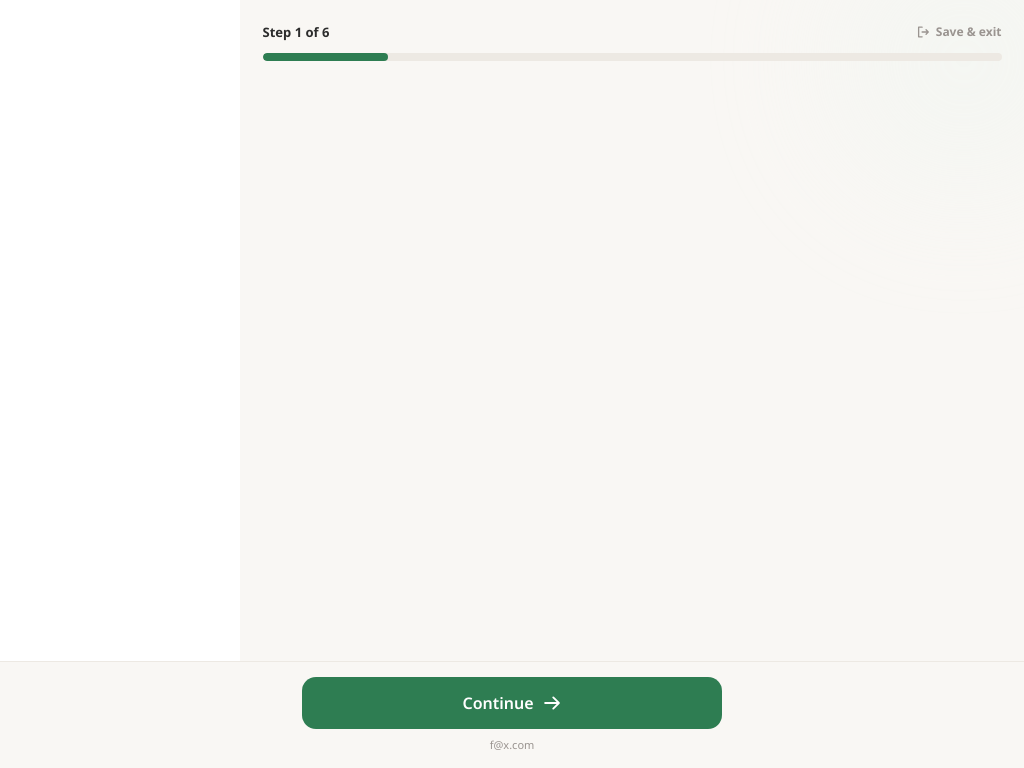
Test: onboarding wizard › refuses to advance without a district
Step 1. Click the button "Continue" → x=512, y=703, box [302,677,722,729]
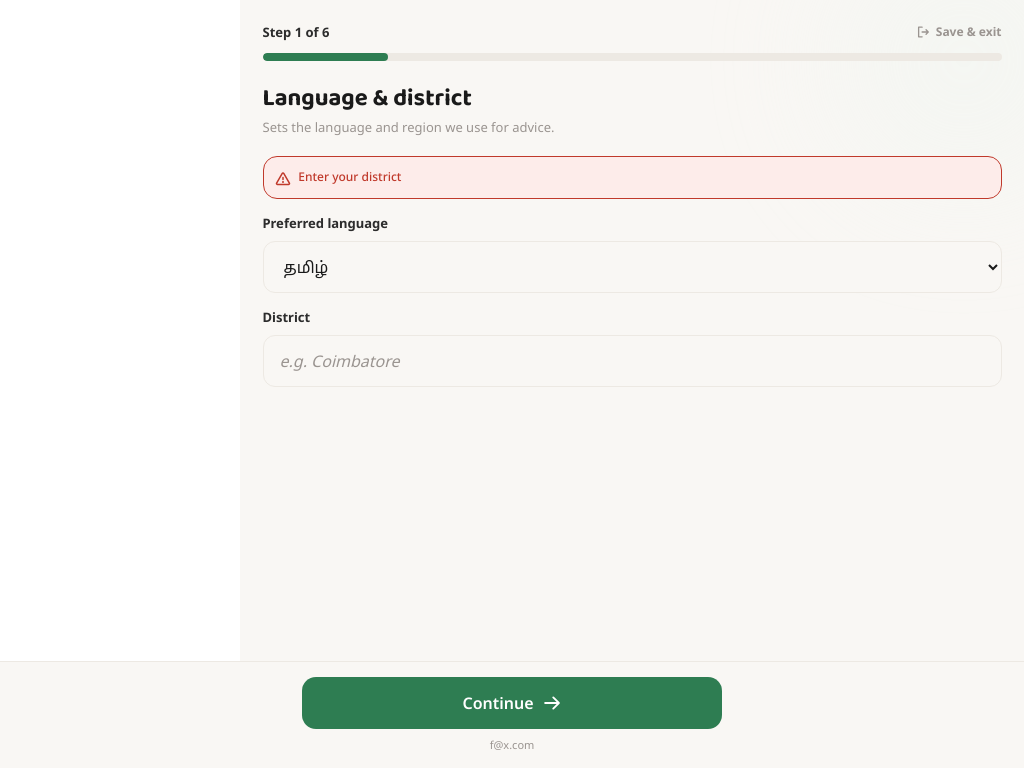
Result: the message reads "Enter your district" at [298,168,402,185]
